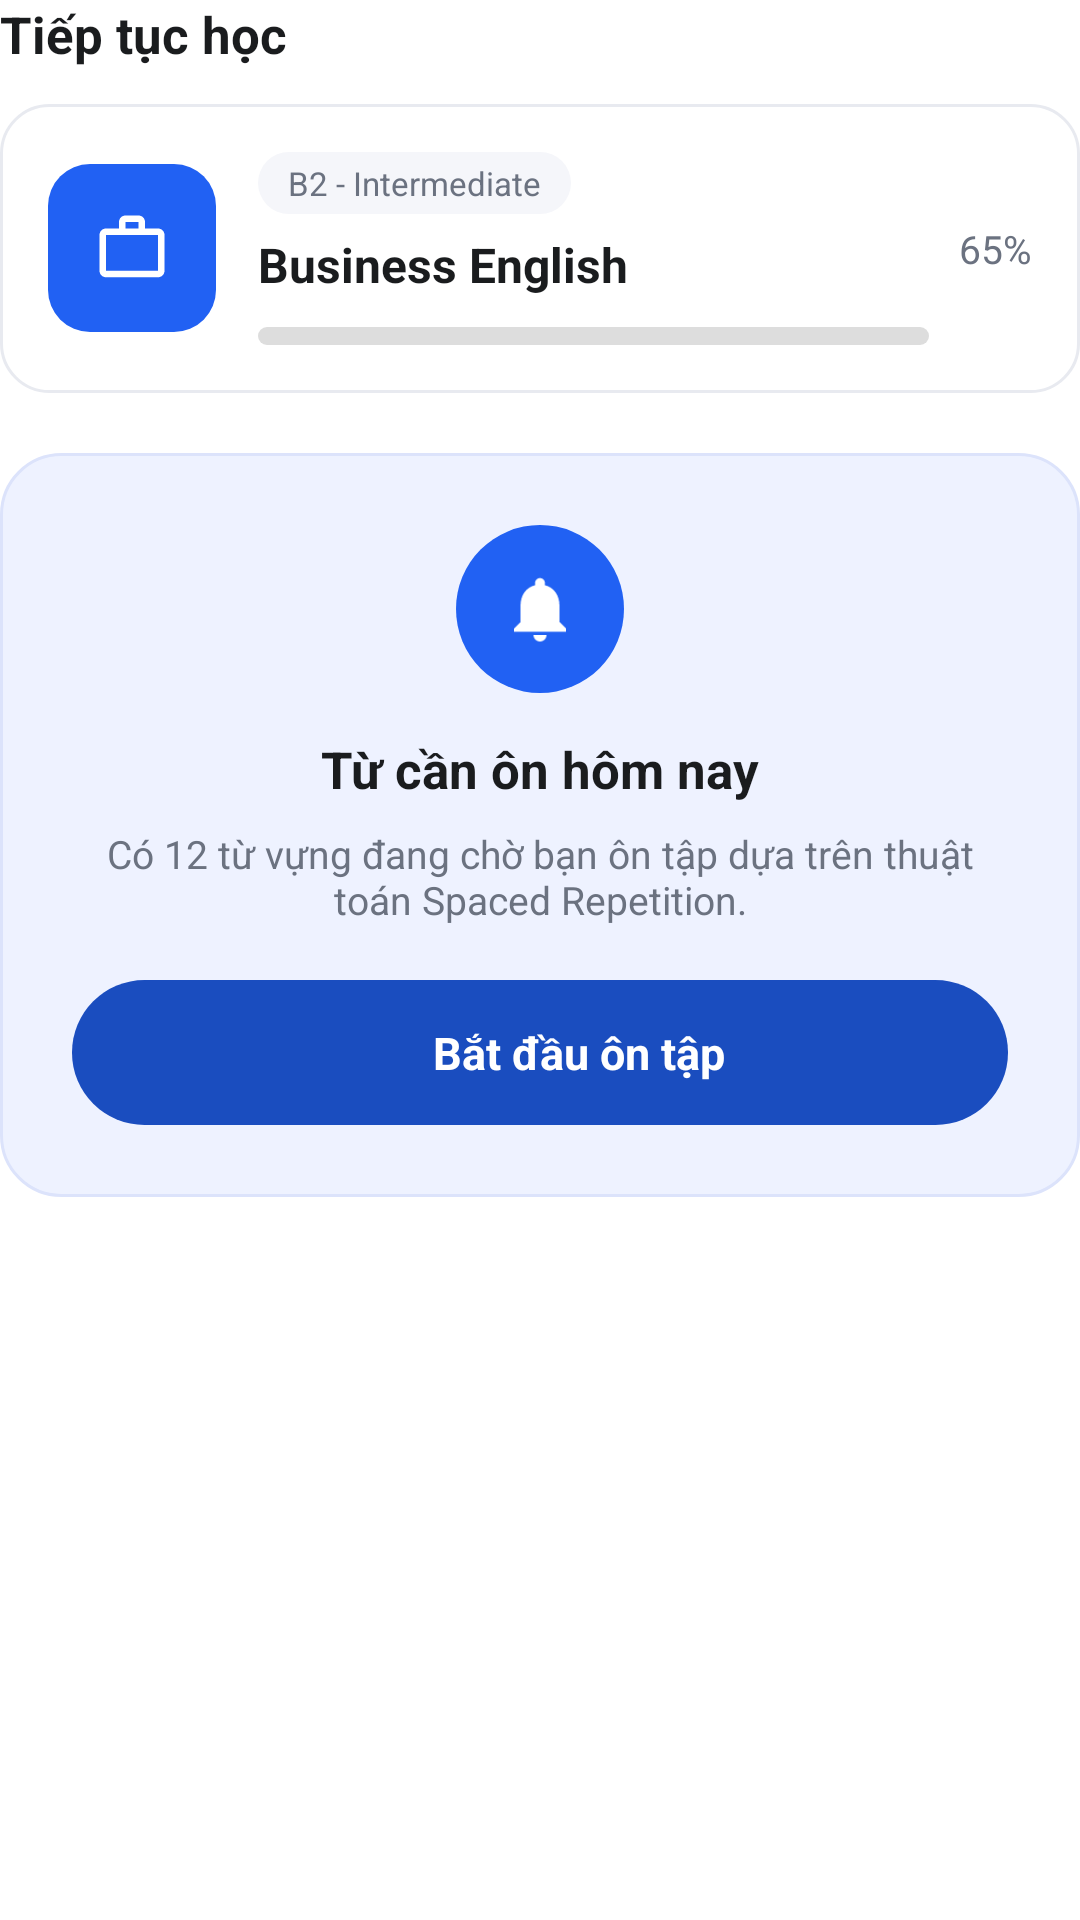

Screen size 1080px×1920px. Icon name, then its box in pixels as (x1, y1, x2, y2):
bell: (514, 577, 566, 642)
briefcase: (99, 215, 165, 278)
